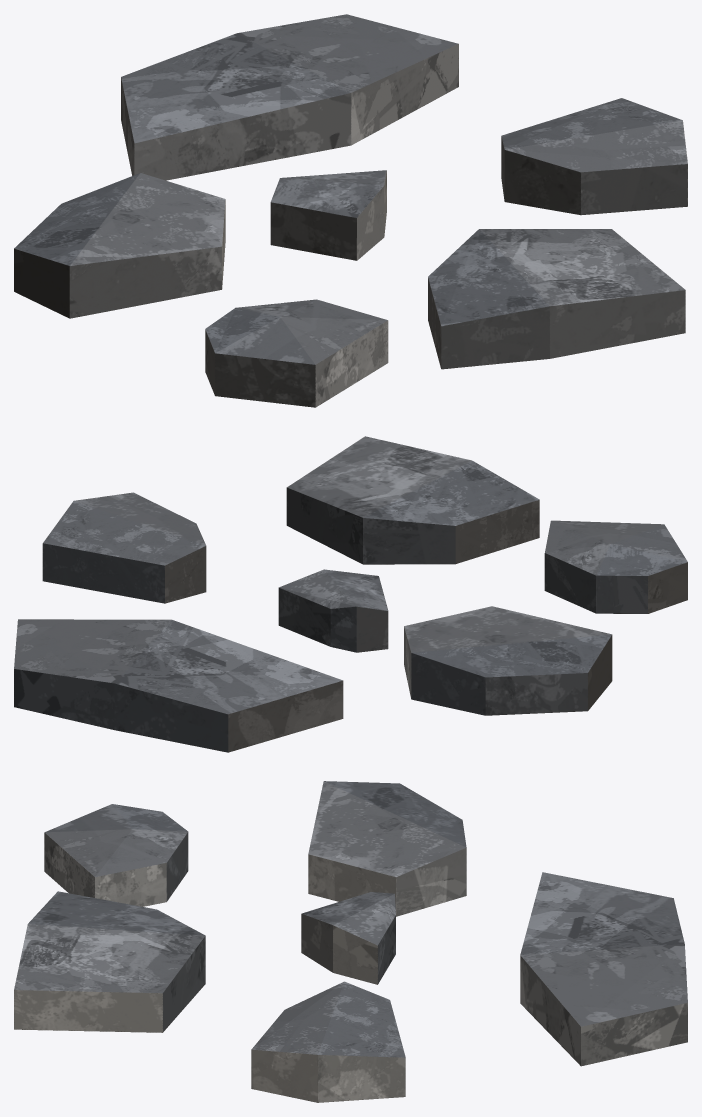
The model's file is Path3.obj.
3 views of the same model, one above another, from view 1: azimuth 30°, elevation 25°; view 2: azimuth 150°, elevation 25°; view 3: azimuth 270°, elevation 25° (orthographic). The views are drawn at different scales.
Parts seen in each view (by area): view 1: Path3; view 2: Path3; view 3: Path3.
Boxes of the visible parts, <box> form: Path3: <box>14,14,687,407</box>; Path3: <box>14,436,687,752</box>; Path3: <box>14,781,687,1102</box>.
Size of the model in its own units: 1.26 by 0.1027 by 1.29.
